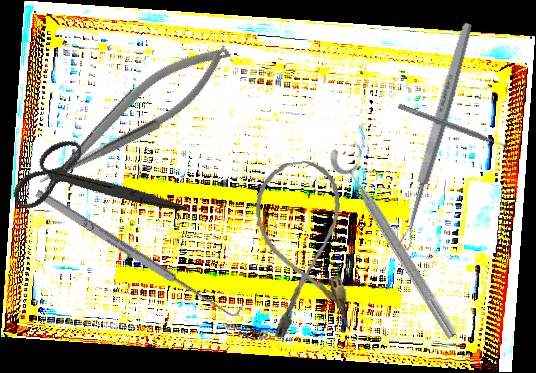Cannula: (251, 158, 353, 338)
Fixation Ring: (325, 135, 474, 344), (395, 97, 515, 155)
Hook Surgical: (33, 180, 244, 324)
Iris Scissors: (2, 109, 188, 265)
Needle Holder: (24, 31, 243, 201)
Surgical Spoon: (395, 21, 476, 252)
